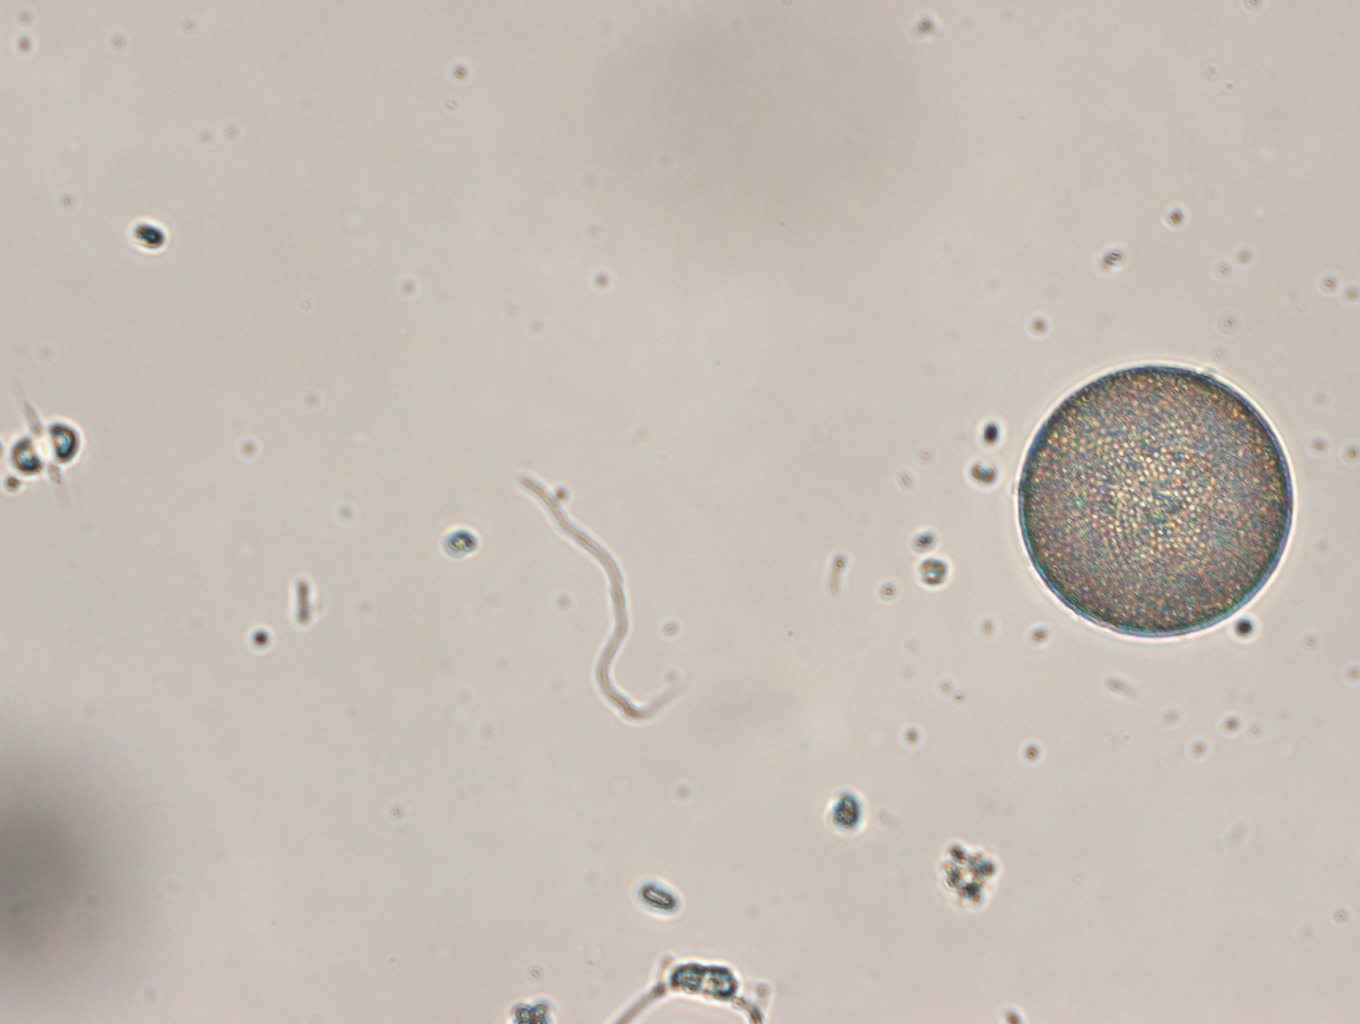coscinodiscus: (1016, 362, 1297, 638)
